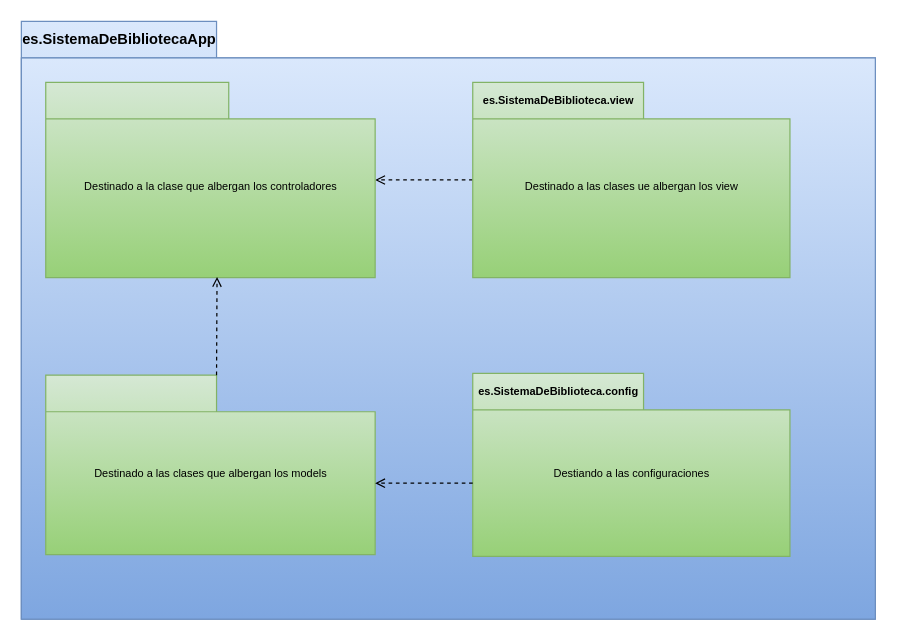
The diagram is 897 pixels wide and 641 high, and some of its shapes have lost their labels. The shapes that lost their labels are listed below. From the top down, each one's centre as x and y in pixels, then its label:
At [210,179]: "es.SistemaDeBiblioteca.controler".
At [210,464]: "es.SistemaDeBiblioteca.model".
